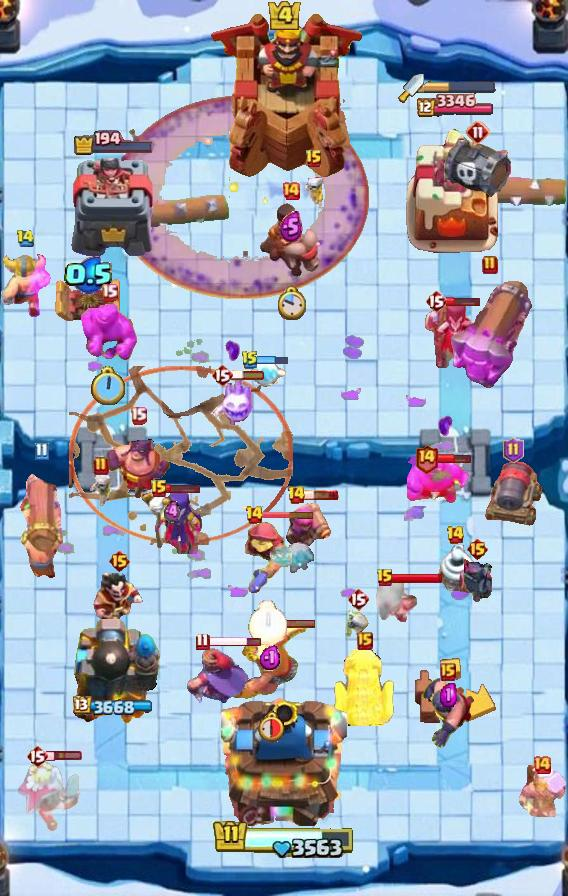bandit: (374, 575, 422, 627)
bar: (207, 635, 262, 648), (391, 572, 443, 584), (265, 618, 317, 629), (261, 510, 315, 519), (46, 750, 83, 762), (303, 489, 339, 501), (230, 369, 266, 381), (446, 295, 481, 307), (436, 453, 472, 464), (166, 483, 201, 494), (257, 355, 289, 366)
bar-level: (414, 443, 439, 474), (466, 120, 490, 144), (108, 549, 131, 573), (466, 537, 489, 561), (503, 437, 524, 463), (26, 744, 48, 768), (347, 587, 369, 611), (211, 363, 233, 387), (425, 289, 447, 313), (532, 755, 552, 775), (281, 181, 301, 201), (446, 525, 465, 545), (245, 505, 264, 525), (287, 485, 306, 505), (16, 229, 35, 248), (376, 568, 394, 588), (150, 479, 168, 499), (241, 350, 259, 370), (305, 149, 323, 169), (130, 406, 147, 425), (101, 283, 118, 302), (93, 456, 109, 476), (482, 255, 498, 275), (440, 663, 456, 681), (357, 632, 373, 650), (195, 632, 210, 651), (34, 442, 49, 461)
cannoneer-tower: (67, 611, 161, 731)
clock: (248, 600, 287, 645), (91, 366, 127, 408), (276, 285, 306, 322), (255, 710, 285, 743)
dagger-duchess-tower: (403, 124, 503, 256)
dagger-duchess-tower-bar: (424, 80, 496, 94)
electro-wizard: (93, 573, 145, 627)
elite-barbarian: (0, 252, 51, 318)
elixir: (64, 256, 114, 294), (279, 211, 303, 242), (259, 645, 282, 671), (440, 683, 457, 707), (164, 500, 180, 524)
elixir-golem-mid: (81, 302, 137, 362), (407, 455, 471, 505)
executioner: (105, 423, 171, 501), (420, 675, 476, 749)
firecracker: (284, 496, 332, 550)
ice-spirit: (273, 540, 317, 578), (244, 357, 286, 393)
ice-spirit-evolution: (211, 379, 259, 427)
king-tower: (205, 11, 363, 181), (221, 690, 347, 826)
king-tower-bar: (212, 819, 356, 861)
lumberjack: (514, 765, 568, 819)
mini-pekka: (461, 556, 494, 603)
night-witch: (421, 298, 479, 370)
queen-tower: (69, 158, 160, 256)
ram-rider: (258, 202, 324, 278)
royal-ghost: (16, 758, 84, 832)
skeleton: (300, 173, 328, 205), (344, 609, 372, 639), (90, 473, 112, 507)
tesla: (334, 642, 396, 726), (54, 276, 124, 326)
the-log: (125, 193, 231, 231), (466, 174, 568, 208)
tower-bar: (73, 130, 155, 156), (414, 94, 493, 119), (73, 696, 155, 717)
witch: (140, 488, 204, 554)
zappy: (432, 545, 478, 601)
